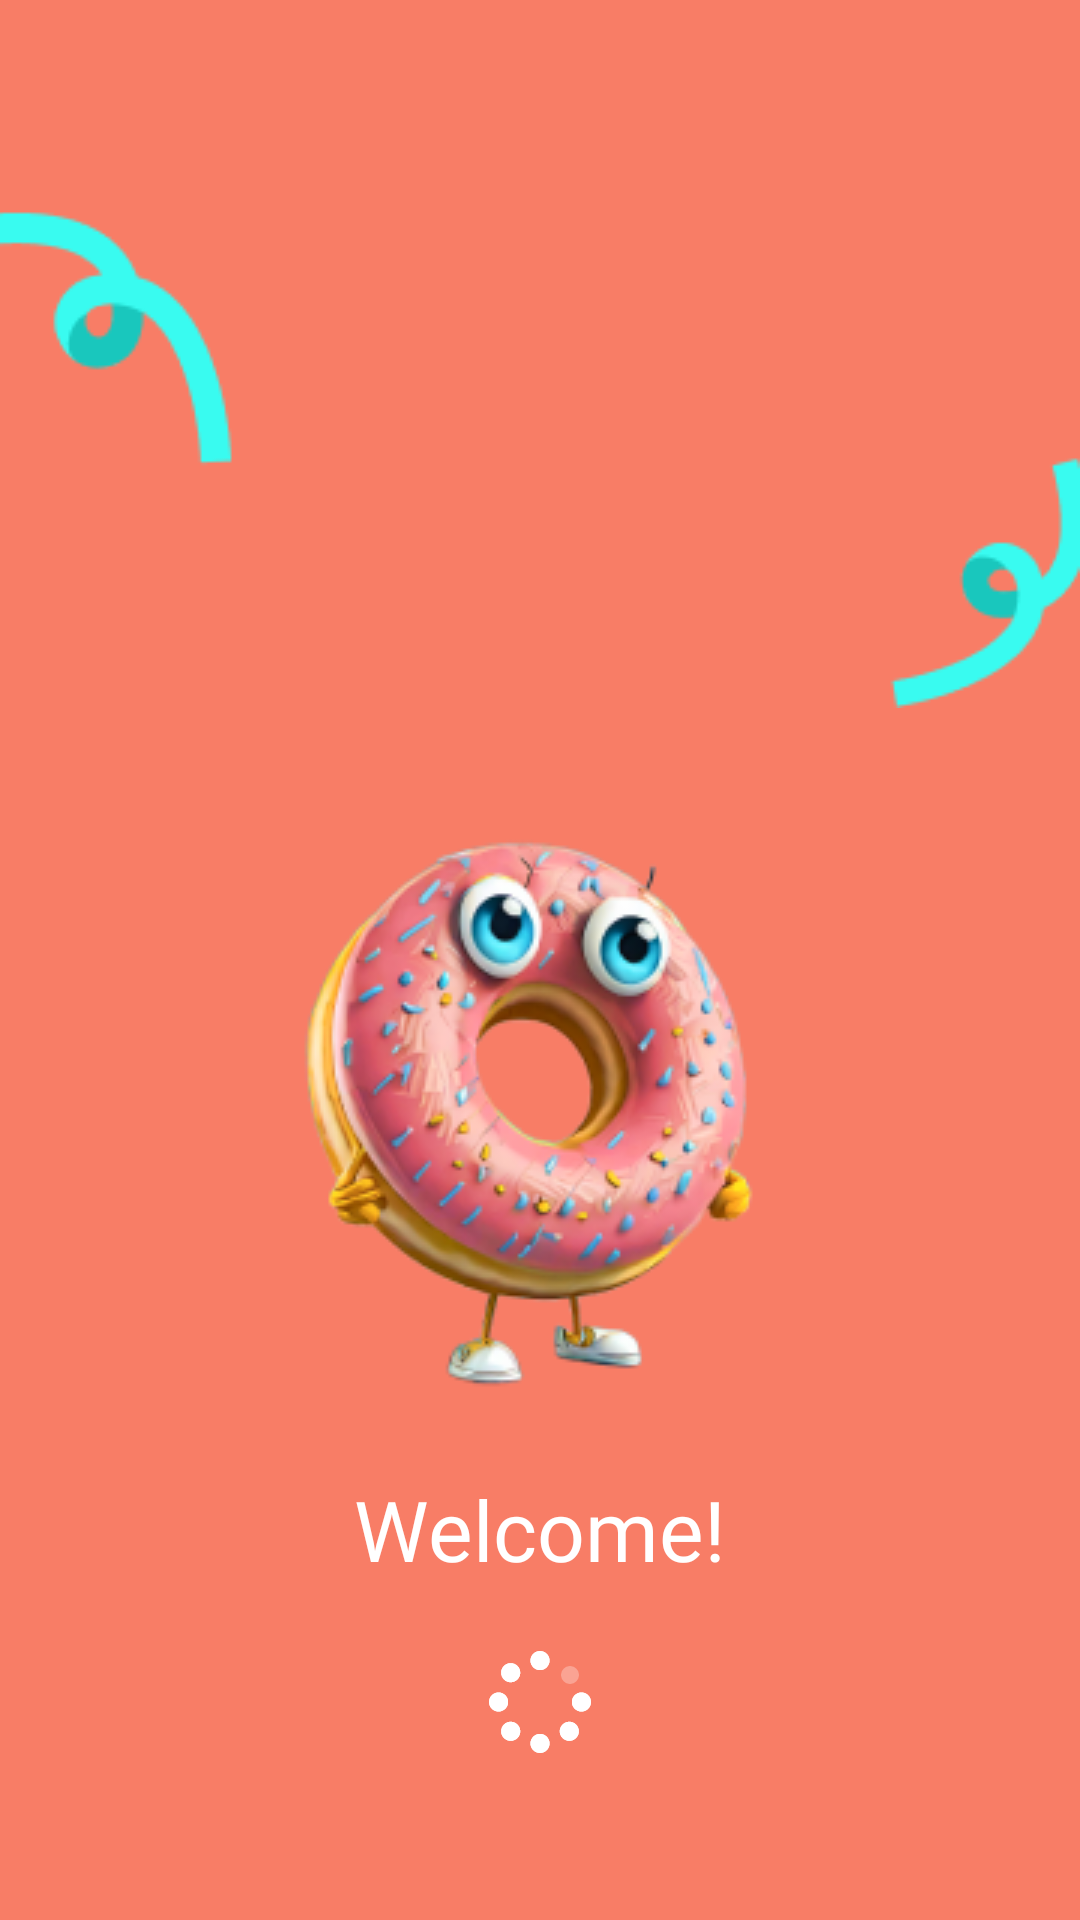

Named icons in this screenshot (1080 × 1920) and their centers, point (x, y):
loading: point (540, 1702)
